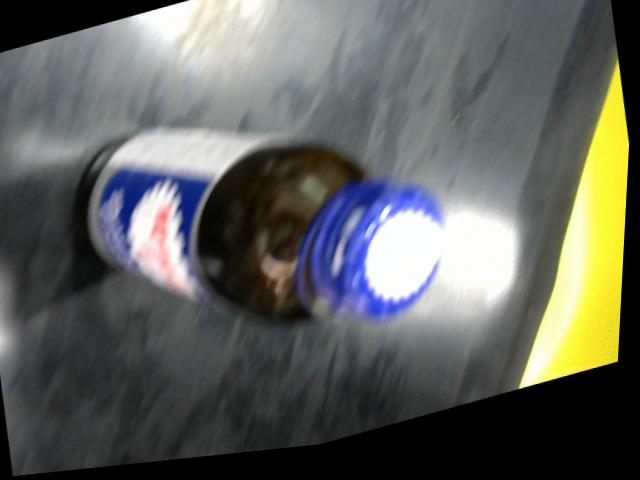glass: (63, 121, 457, 343)
